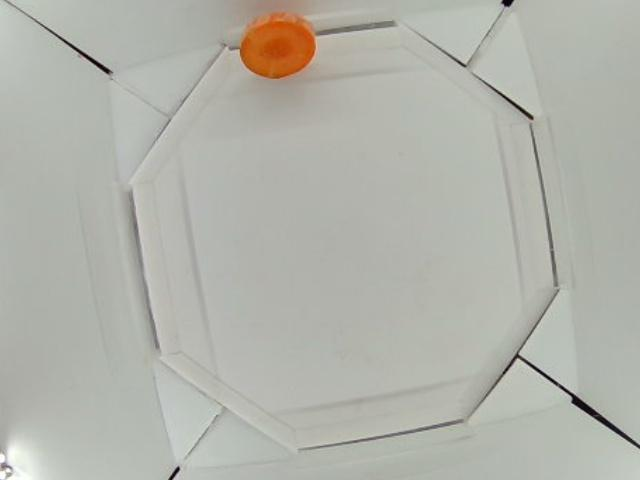Carrot: (238, 13, 317, 78)
